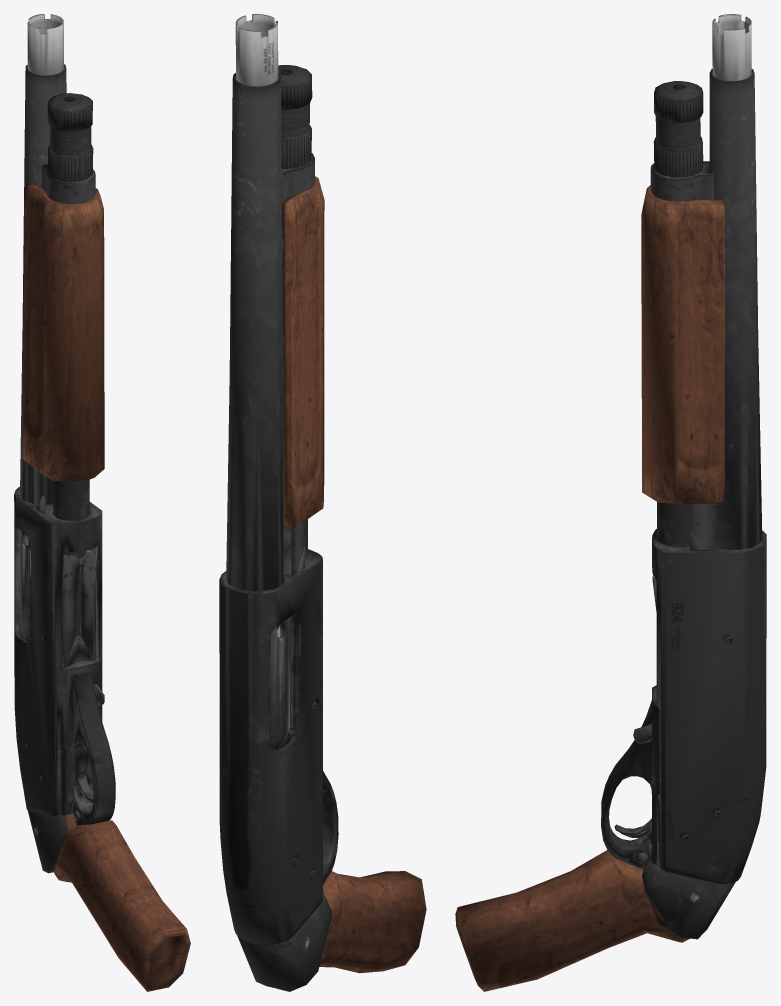
Rendered from ShotgunSawnoffChoke.fbx.
3 views of the same model, side by side, from view 1: azimuth 30°, elevation 25°; view 2: azimuth 150°, elevation 25°; view 3: azimuth 270°, elevation 25° (orthographic). The views are drawn at different scales.
Parts seen in each view (by area): view 1: ShotgunSawnOffChoke; view 2: ShotgunSawnOffChoke; view 3: ShotgunSawnOffChoke.
Part boxes in pixels (x1=…): ShotgunSawnOffChoke: x1=14, y1=14, x2=190, y2=991; ShotgunSawnOffChoke: x1=219, y1=14, x2=426, y2=991; ShotgunSawnOffChoke: x1=455, y1=14, x2=766, y2=991.
Size of the model in its own units: 0.0273 by 0.3986 by 0.1166.
